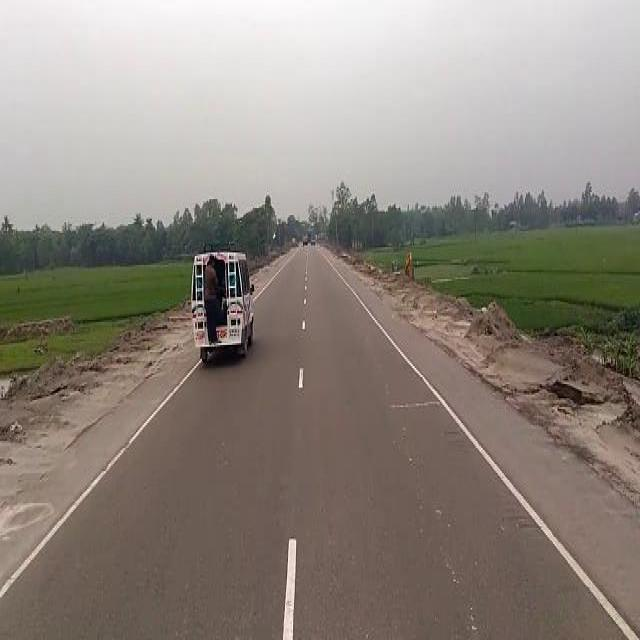vehicle: (189, 237, 256, 362), (302, 233, 308, 245), (312, 231, 317, 245)
